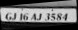character: (5, 12, 12, 20), (22, 12, 28, 21), (30, 13, 36, 20), (36, 13, 42, 20), (44, 13, 50, 20), (56, 13, 62, 20), (11, 12, 16, 20), (62, 13, 67, 21), (50, 13, 55, 20), (19, 12, 23, 20)
